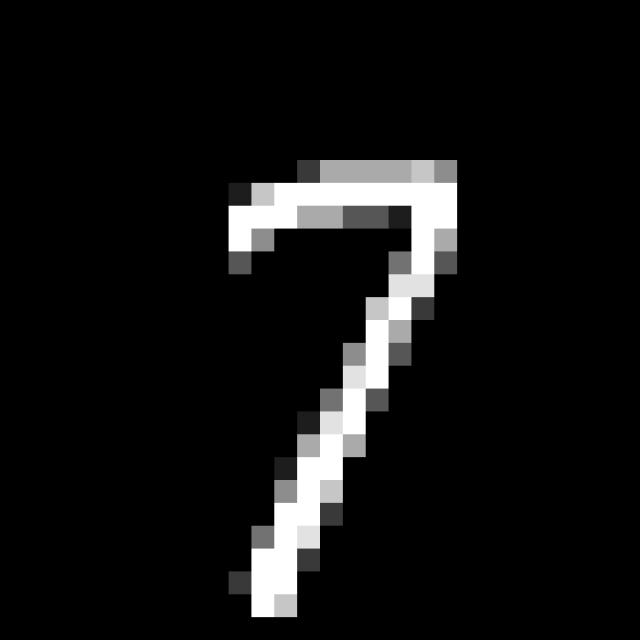seven -7-: (222, 137, 468, 640)
